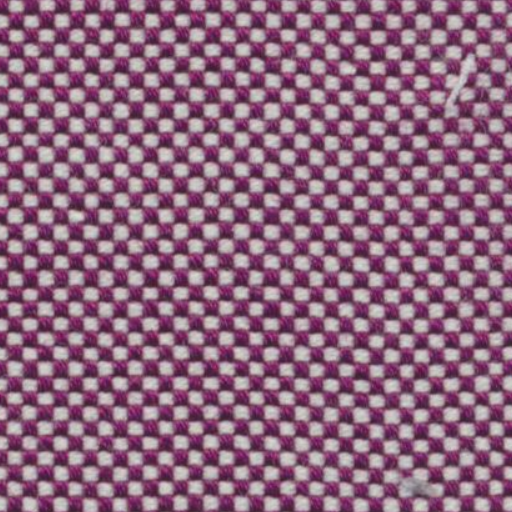DuanSha: (440, 47, 482, 122)
